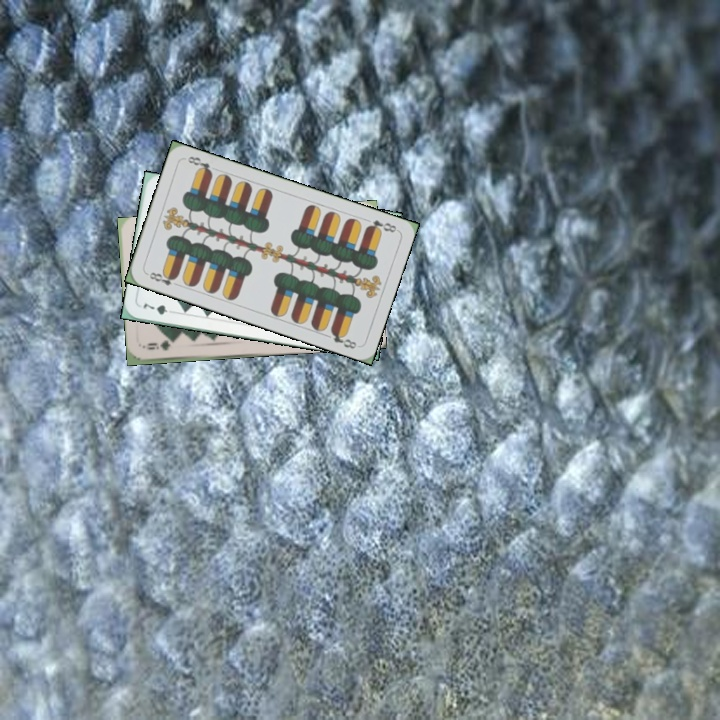E8: (143, 268, 182, 289), (362, 216, 399, 236)
G7: (139, 299, 178, 317)
G9: (141, 338, 179, 353)
